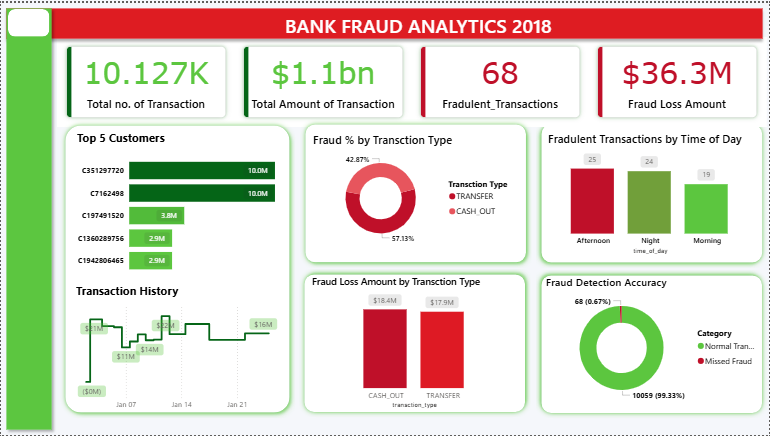

Layout of this report page (visuals, bound fields, positions):
{"tool":"powerbi","page":{"name":"Landing page","canvas":[1280,720],"ordinal":0},"visuals":[{"type":"shape","box":[892,194,386,248],"z":0},{"type":"cardVisual","fields":{"Data":["Fraud Dataset.Total no. of Transaction","Fraud Dataset.Total Amount of Transaction","Fraud Dataset.Fradulent Transactions","Fraud Dataset.Fraud Loss Amount"]},"box":[93.3,56.7,1183.3,150],"z":1000},{"type":"shape","box":[497.8,193.3,385.6,247.8],"z":2000},{"type":"shape","box":[497.1,442.9,385.7,247.1],"z":3000},{"type":"shape","box":[891.4,444.3,385.7,247.1],"z":4000},{"type":"clusteredColumnChart","title":"Fradulent Transactions by Time of Day","fields":{"Category":["Fraud Dataset.time_of_day"],"Y":["Fraud Dataset.Fradulent Transactions"]},"box":[907.1,212.9,351.4,210],"z":5000},{"type":"shape","box":[0,0,1278.3,68.3],"z":6000},{"type":"columnChart","title":"Fraud Loss Amount by Transction Type","fields":{"Category":["Fraud Dataset.transction_type"],"Y":["Fraud Dataset.Fraud Loss Amount"]},"box":[513.8,452.5,352.5,227.5],"z":7000},{"type":"shape","box":[0,0,93.3,720],"z":8000},{"type":"donutChart","title":"Fraud Detection Accuracy","fields":{"Category":["Fraud_ConfusionMatrix.Category"],"Y":["Sum(Fraud_ConfusionMatrix.Value)"]},"box":[907.5,452.5,360,225],"z":9000},{"type":"donutChart","title":"Fraud % by Transction Type","fields":{"Category":["Fraud Dataset.transction_type"],"Y":["Fraud Dataset.Fraud Rate"]},"box":[514.3,215.7,348.6,195.7],"z":10000},{"type":"shape","box":[12.3,10.5,69.1,46.4],"z":11000},{"type":"shape","box":[98.3,195,391.7,496.7],"z":12000},{"type":"barChart","title":"Top 5 Customers","fields":{"Y":["Sum(Fraud Dataset.transaction_amount)"],"Category":["Fraud Dataset.customer_id"]},"box":[121.7,211.7,368.3,253.3],"z":13000},{"type":"lineChart","title":"Transaction History ","fields":{"Y":["Fraud Dataset.Net Change"],"Category":["Fraud Dataset.transaction_date.Variation.Date Hierarchy.Year","Fraud Dataset.transaction_date.Variation.Date Hierarchy.Quarter","Fraud Dataset.transaction_date.Variation.Date Hierarchy.Month","Fraud Dataset.transaction_date.Variation.Date Hierarchy.Day"]},"box":[120,466.7,348.3,220],"z":14000},{"type":"textbox","box":[468.3,10,460,58.3],"z":15000},{"type":"actionButton","box":[991.4,14.3,40,40],"z":15001},{"type":"actionButton","box":[332.9,14.3,40,40],"z":15002},{"type":"actionButton","box":[27.1,215.7,40,40],"z":15003},{"type":"actionButton","box":[27.1,317.1,40,40],"z":15004},{"type":"image","box":[4.1,0,81.2,68.8],"z":15006},{"type":"actionButton","box":[27.1,404.3,40,40],"z":15007}]}

Visuals, with their boxes in screenshot pixels (x1, y1, x2, y2), scaled from the page's 1280x720 canvas onto the 770x436 screenshot:
shape: (537,117,769,268)
cardVisual - Fraud Dataset.Total no. of Transaction x Fraud Dataset.Total Amount of Transaction: (56,34,768,125)
shape: (299,117,531,267)
shape: (299,268,531,418)
shape: (536,269,768,419)
"Fradulent Transactions by Time of Day" clusteredColumnChart: (546,129,757,256)
shape: (0,0,769,41)
"Fraud Loss Amount by Transction Type" columnChart: (309,274,521,412)
shape: (0,0,56,435)
"Fraud Detection Accuracy" donutChart: (546,274,762,410)
"Fraud % by Transction Type" donutChart: (309,131,519,249)
shape: (7,6,49,34)
shape: (59,118,295,419)
"Top 5 Customers" barChart: (73,128,295,282)
"Transaction History " lineChart: (72,283,282,416)
textbox: (282,6,558,41)
actionButton: (596,9,620,33)
actionButton: (200,9,224,33)
actionButton: (16,131,40,155)
actionButton: (16,192,40,216)
image: (2,0,51,42)
actionButton: (16,245,40,269)
